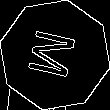M_E: (25, 27, 85, 83)
